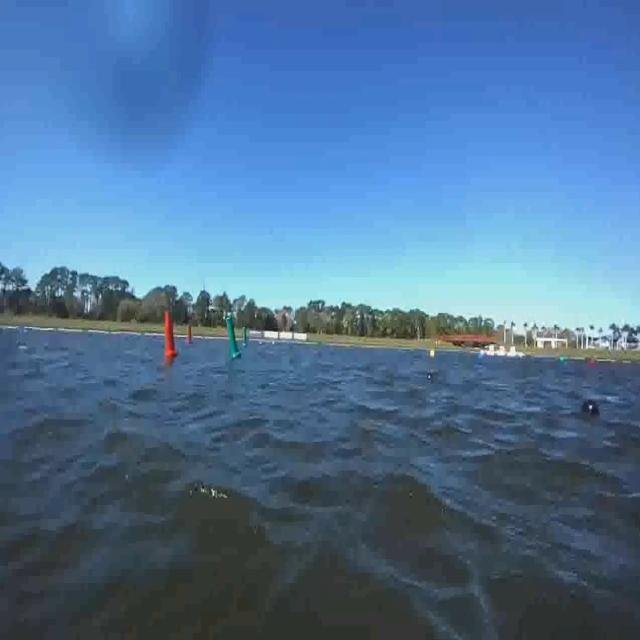blue-buoy: (580, 396, 602, 424)
green-column-buoy: (226, 315, 243, 359), (243, 328, 249, 346)
red-column-buoy: (163, 309, 179, 358), (186, 324, 193, 344)
yellow-buoy: (429, 347, 436, 359)
